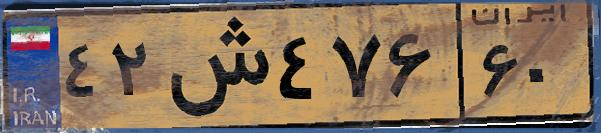0: (525, 38, 570, 115)
2: (110, 28, 158, 98)
4: (270, 28, 330, 110), (57, 26, 110, 100)
6: (385, 28, 445, 110), (475, 38, 525, 113)
7: (330, 28, 385, 110)
ش: (158, 12, 270, 120)
